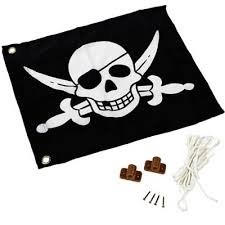Jolly Roger Flag: (2, 5, 224, 174)
